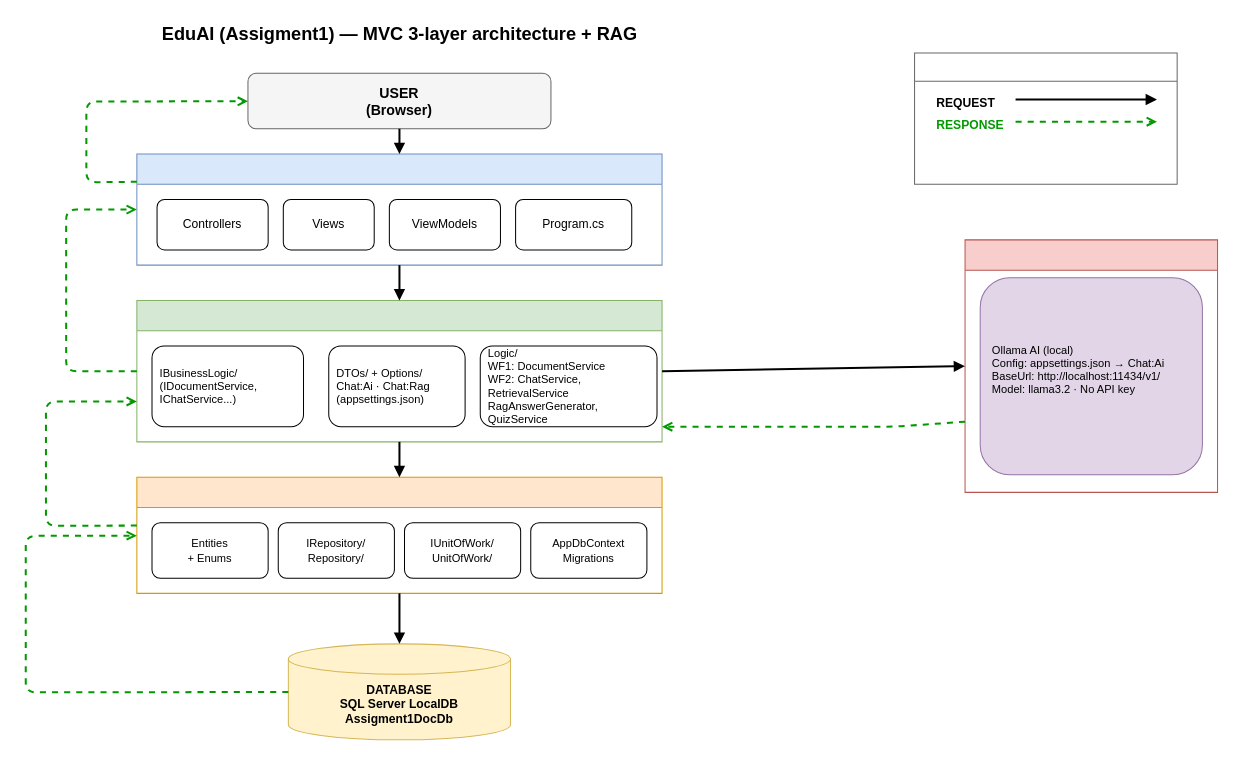
The diagram is 1235 pixels wide and 758 high, and some of its shapes have lost their labels. The box of each missing label's shape, as (x1, y1, x2, y2) in pixels:
ARROW LEGEND: (914, 52, 1177, 184)
BUSINESS LOGIC — BusinessLogic Project: (136, 299, 662, 442)
DATA ACCESS — Model Project: (136, 476, 662, 593)
EXTERNAL SYSTEMS: (964, 239, 1218, 492)
PRESENTATION — Web Project: (136, 153, 662, 265)
